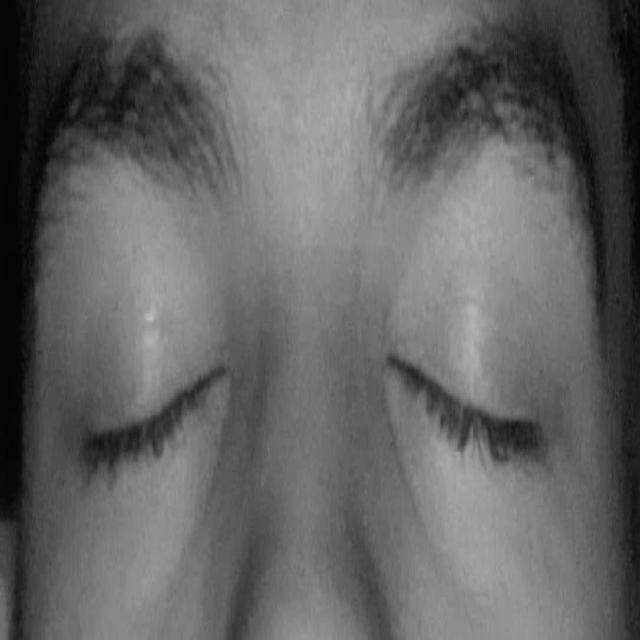real: (63, 205, 591, 534)
